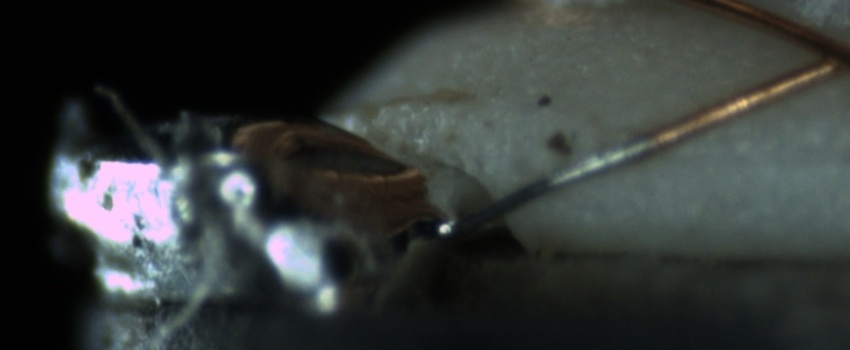CL: (792, 19, 849, 82)
DL: (664, 122, 850, 186)
TS: (440, 134, 655, 236)
